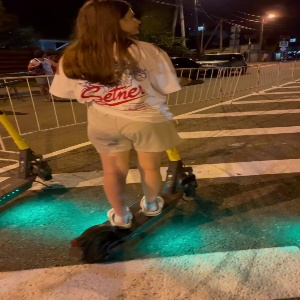human on a scooter: (47, 1, 205, 262)
